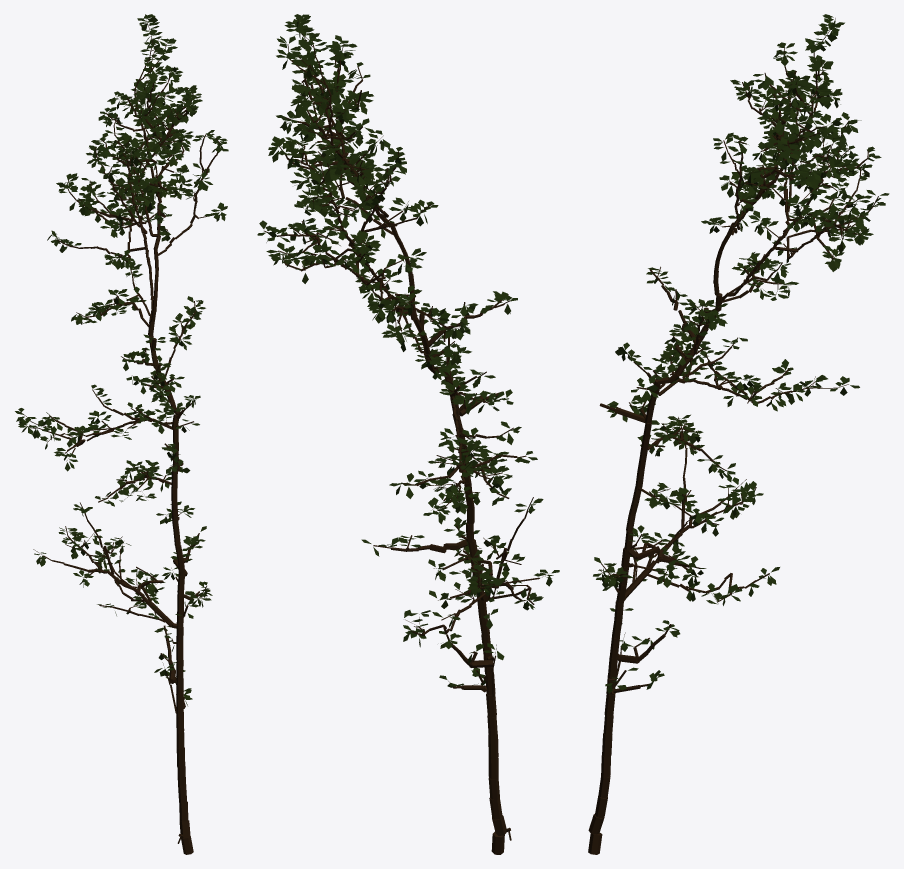
The model's file is 2022_tree_173.obj.
3 renders of one model, left to right at view 1: azimuth 30°, elevation 25°; view 2: azimuth 150°, elevation 25°; view 3: azimuth 270°, elevation 25°, orthographic. The views are drawn at different scales.
Visible parts, largest first — view 1: Leaves, TrunkAndBranches; view 2: Leaves, TrunkAndBranches; view 3: Leaves, TrunkAndBranches.
Boxes of the visible parts, x1,y1,x2,y2 form: Leaves: [15, 14, 228, 705]; TrunkAndBranches: [20, 14, 222, 854]; Leaves: [257, 14, 559, 687]; TrunkAndBranches: [264, 19, 548, 854]; Leaves: [593, 14, 889, 693]; TrunkAndBranches: [588, 18, 878, 854].
Size of the model in its own units: 5.95 by 22.29 by 7.
